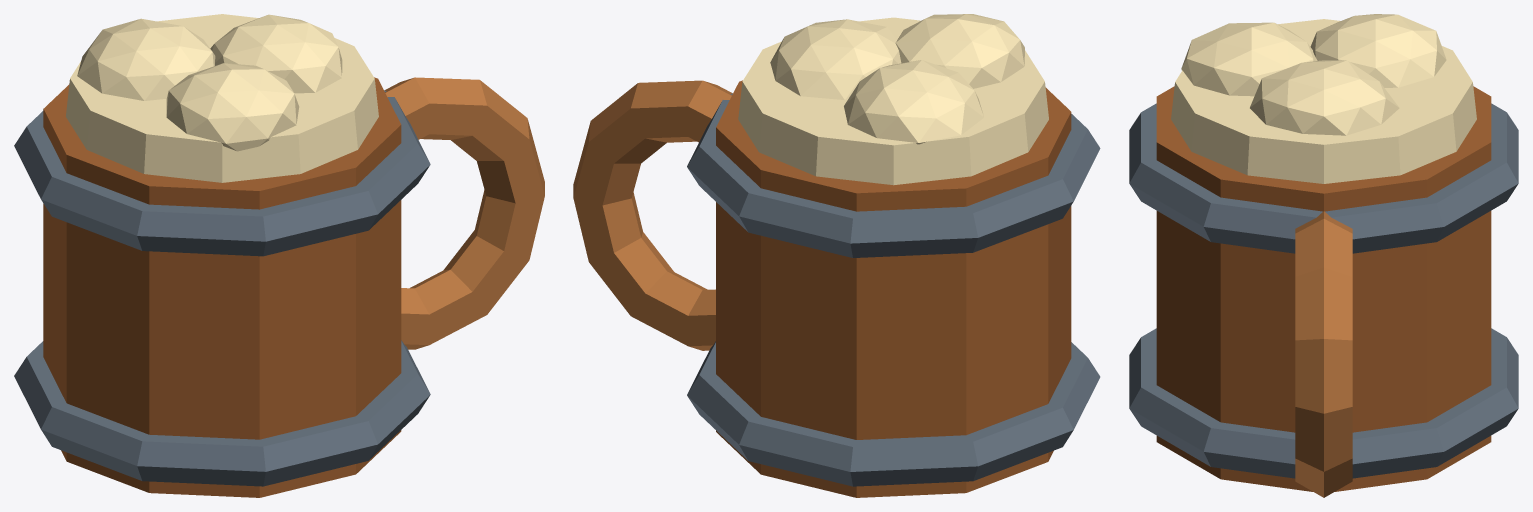
The model's file is kit_mug.glb.
3 views of the same model, side by side, from view 1: azimuth 30°, elevation 25°; view 2: azimuth 150°, elevation 25°; view 3: azimuth 270°, elevation 25° (orthographic). The views are drawn at different scales.
Visible parts, largest first — view 1: Tankard body, Tankard handle, Tankard band.001, Tankard band, Foam surface, Foam bubble.002, Foam bubble, Foam bubble.001; view 2: Tankard body, Tankard handle, Tankard band.001, Tankard band, Foam surface, Foam bubble, Foam bubble.001, Foam bubble.002; view 3: Tankard body, Foam surface, Tankard band.001, Tankard band, Tankard handle, Foam bubble.001, Foam bubble, Foam bubble.002.
Part boxes in pixels (bbox=[...]): Tankard body: bbox=[43, 77, 401, 497]; Tankard handle: bbox=[384, 77, 544, 349]; Tankard band.001: bbox=[14, 90, 430, 256]; Tankard band: bbox=[14, 340, 430, 486]; Foam surface: bbox=[66, 14, 378, 182]; Foam bubble.002: bbox=[166, 63, 299, 151]; Foam bubble: bbox=[77, 18, 215, 100]; Foam bubble.001: bbox=[210, 14, 342, 93]; Tankard body: bbox=[716, 80, 1071, 497]; Tankard handle: bbox=[573, 80, 732, 350]; Tankard band.001: bbox=[687, 93, 1100, 257]; Tankard band: bbox=[687, 341, 1100, 486]; Foam surface: bbox=[738, 17, 1048, 185]; Foam bubble: bbox=[844, 60, 983, 144]; Foam bubble.001: bbox=[770, 19, 901, 99]; Foam bubble.002: bbox=[895, 14, 1024, 88]; Tankard body: bbox=[1156, 86, 1491, 491]; Foam surface: bbox=[1171, 19, 1476, 183]; Tankard band.001: bbox=[1129, 103, 1518, 253]; Tankard band: bbox=[1129, 328, 1518, 478]; Tankard handle: bbox=[1295, 211, 1352, 497]; Foam bubble.001: bbox=[1250, 60, 1399, 135]; Foam bubble: bbox=[1310, 14, 1446, 87]; Foam bubble.002: bbox=[1181, 22, 1317, 96].
Bounding box in the file's own units: 0.275 × 0.2021 × 0.1883.
